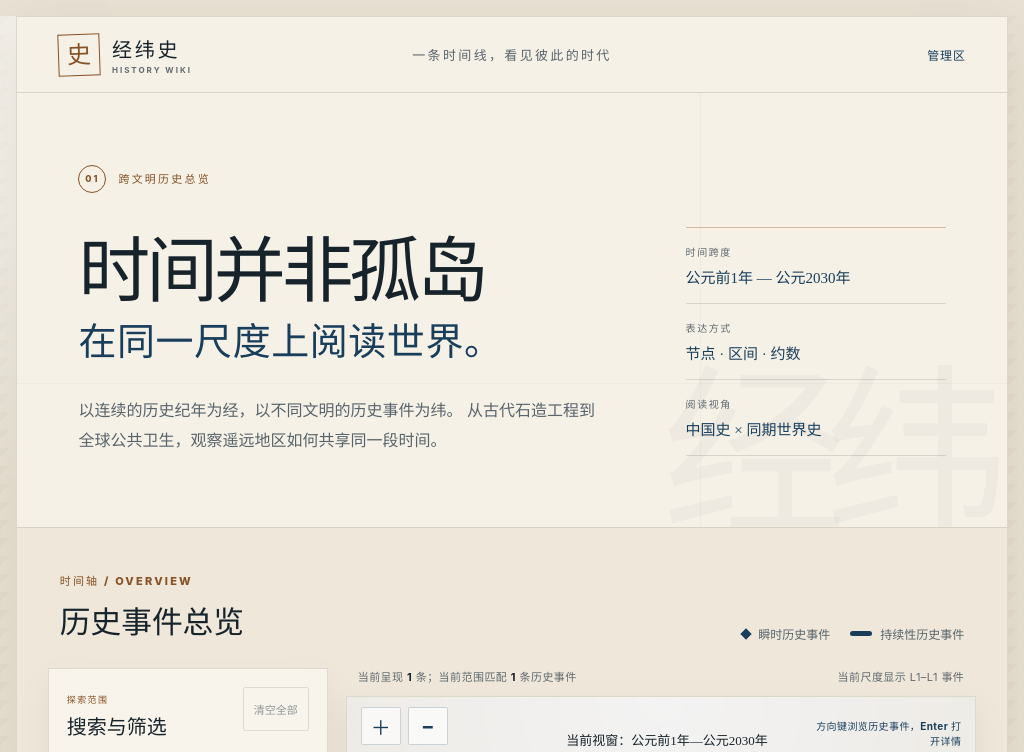
Test: 历史事件总览应用 › 后续查询失败时保留已有结果并可重试当前范围
The width and height of the screenshot is (1024, 752).
Step 1. Click the button named "放大时间线" → coordinates (381, 726), box [361, 707, 401, 745]
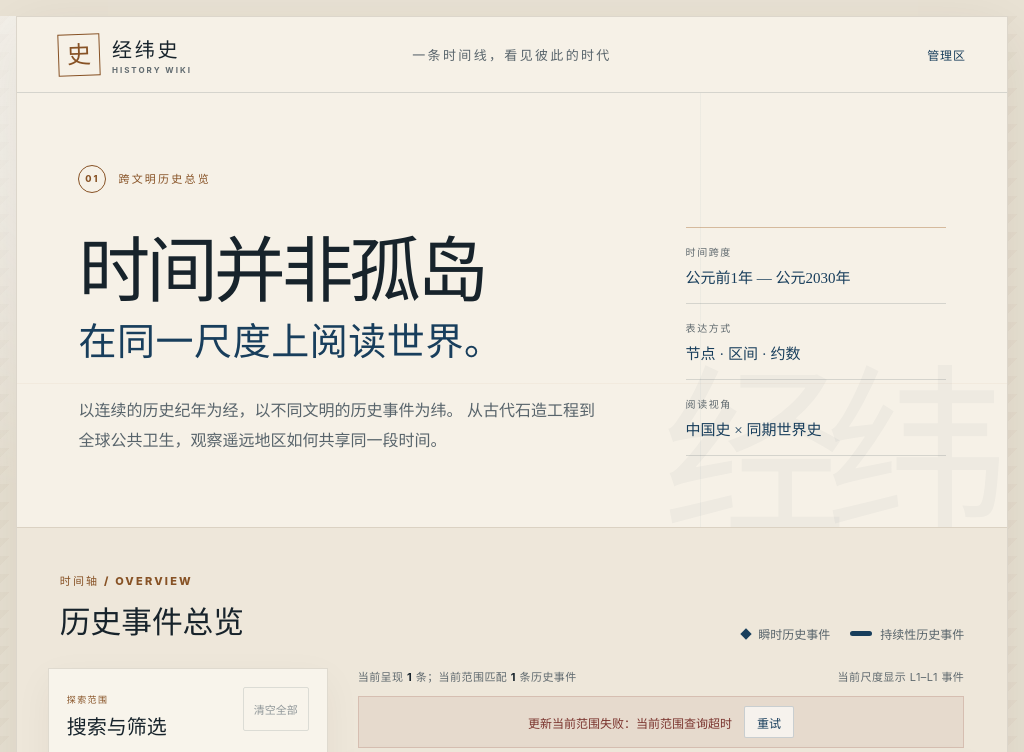
Check: the message shows "更新当前范围失败：当前范围查询超时", box [358, 696, 964, 748]
Step 2. Click the button "重试" → coordinates (769, 722), box [744, 706, 794, 738]
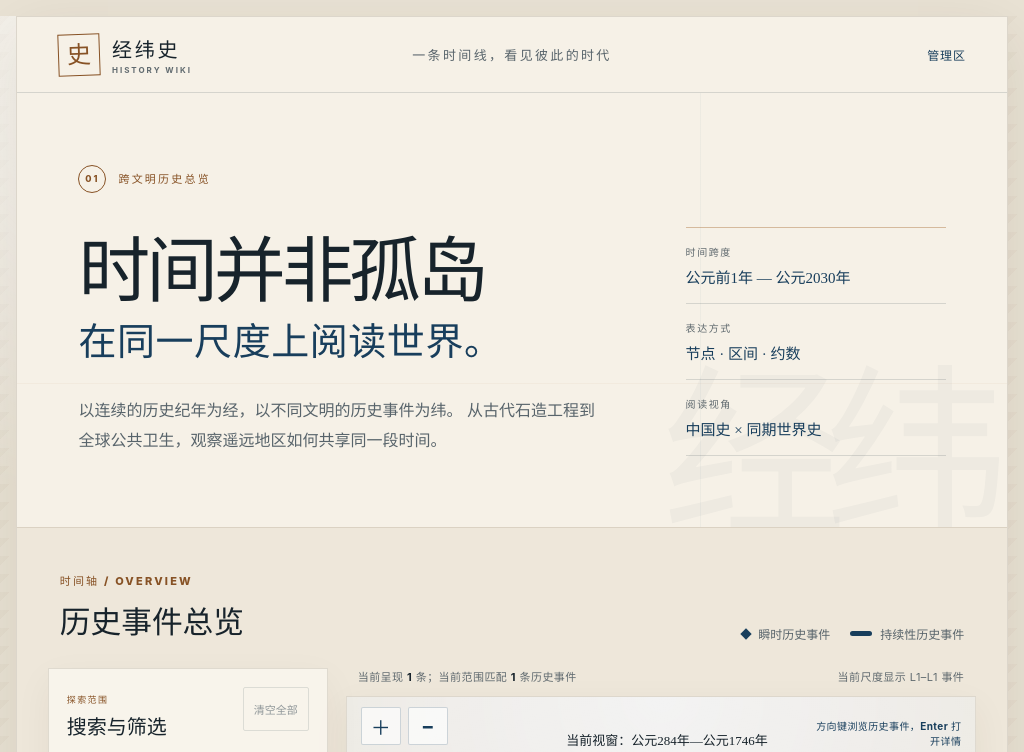
Check: the message "更新当前范围失败：当前范围查询超时 重试" is gone
